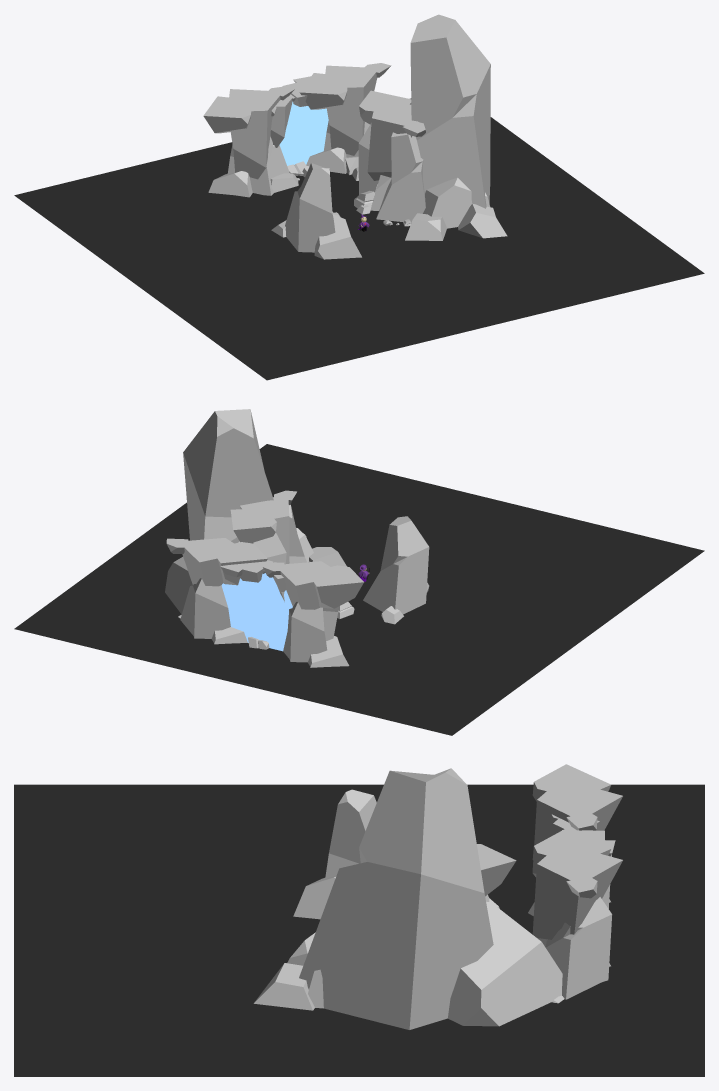
File: ld55title.fbx
3 views of the same model, one above another, from view 1: azimuth 30°, elevation 25°; view 2: azimuth 150°, elevation 25°; view 3: azimuth 270°, elevation 25° (orthographic). The views are drawn at different scales.
Parts seen in each view (by area): view 1: Plane.003, Cube.021, Cube.004, Cube.010, Cube.008, Cube.014, Cube.013, Cube.019, Plane.004, Cube.009, Cube.007, Cube.012 (+1 smaller); view 2: Plane.003, Cube.021, Cube.004, Cube.010, Plane.004, Cube.008, Cube.009, Cube.007, Cube.013, Cube.019, Cube.016, Cube.012 (+1 smaller); view 3: Plane.003, Cube.021, Cube.008, Cube.010, Cube.007, Cube.004, Cube.013, Cube.019.
Boxes of the visible parts, box(x1,y1,x2,y2) form: Plane.003: box(14, 98, 704, 380); Cube.021: box(410, 14, 507, 238); Cube.004: box(271, 163, 361, 259); Cube.010: box(203, 86, 294, 179); Cube.008: box(299, 63, 391, 155); Cube.014: box(371, 132, 425, 222); Cube.013: box(359, 90, 425, 180); Cube.019: box(405, 177, 490, 240); Plane.004: box(279, 101, 328, 165); Cube.009: box(208, 136, 299, 197); Cube.007: box(306, 121, 369, 173); Cube.012: box(352, 123, 378, 194); Plane.003: box(14, 444, 704, 735); Cube.021: box(165, 409, 306, 614); Cube.004: box(363, 516, 429, 624); Cube.010: box(262, 561, 363, 641); Plane.004: box(221, 573, 292, 651); Cube.008: box(166, 538, 267, 586); Cube.009: box(283, 602, 349, 667); Cube.007: box(178, 578, 247, 644); Cube.013: box(230, 490, 296, 563); Cube.019: box(296, 528, 346, 566); Cube.016: box(220, 560, 272, 582); Cube.012: box(251, 532, 286, 564); Plane.003: box(14, 784, 704, 1076); Cube.021: box(253, 768, 562, 1029); Cube.008: box(532, 828, 622, 947); Cube.010: box(532, 764, 622, 876); Cube.007: box(545, 897, 612, 1003); Cube.004: box(293, 789, 376, 919); Cube.013: box(477, 844, 516, 896); Cube.019: box(287, 932, 323, 1008).
Bounding box in the file's own units: 6358 × 2827 × 6358.
